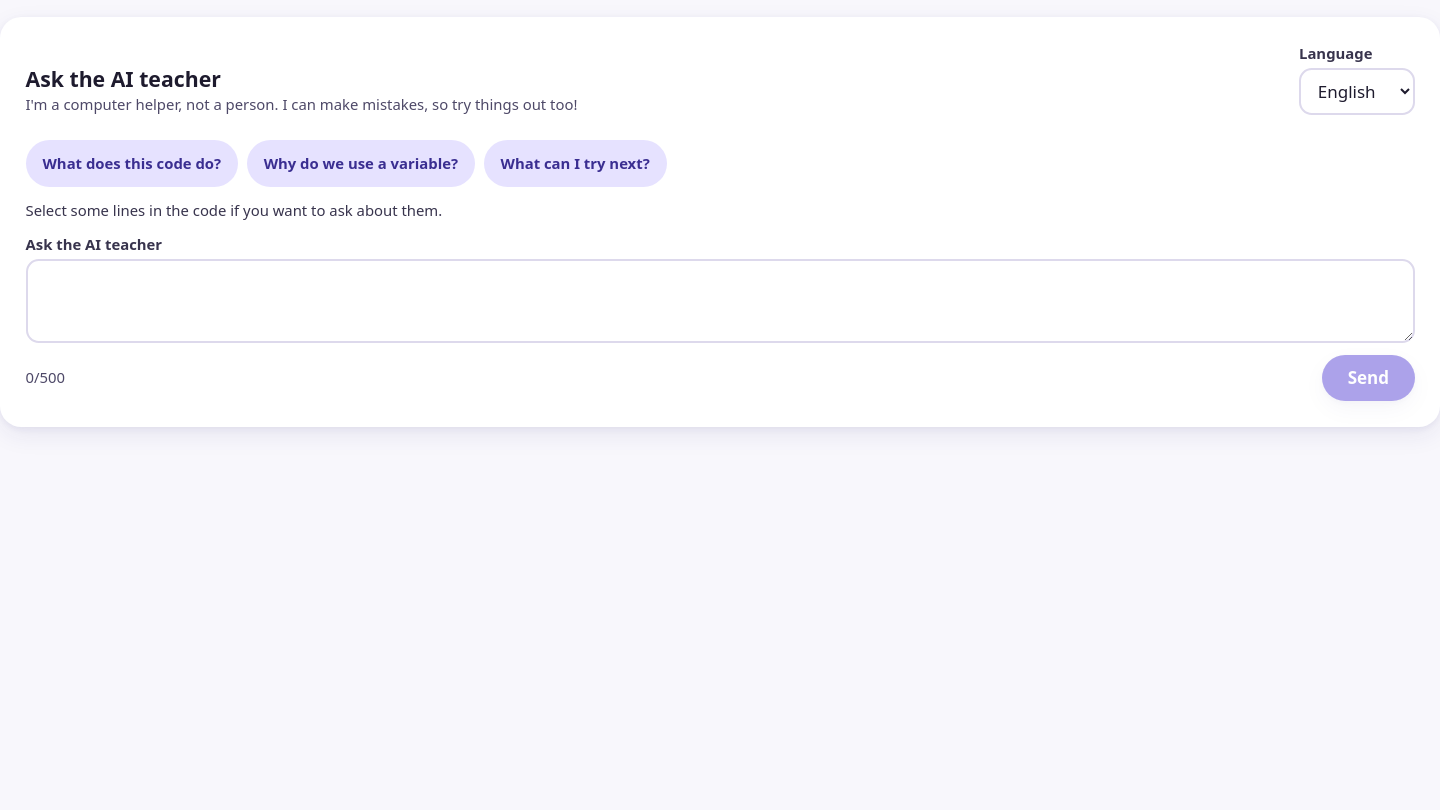
TeacherPanel chat › sends a suggested question with the project and shows the answer and follow-ups
Click the button "What can I try next?" at (575, 164), box [484, 140, 667, 187]
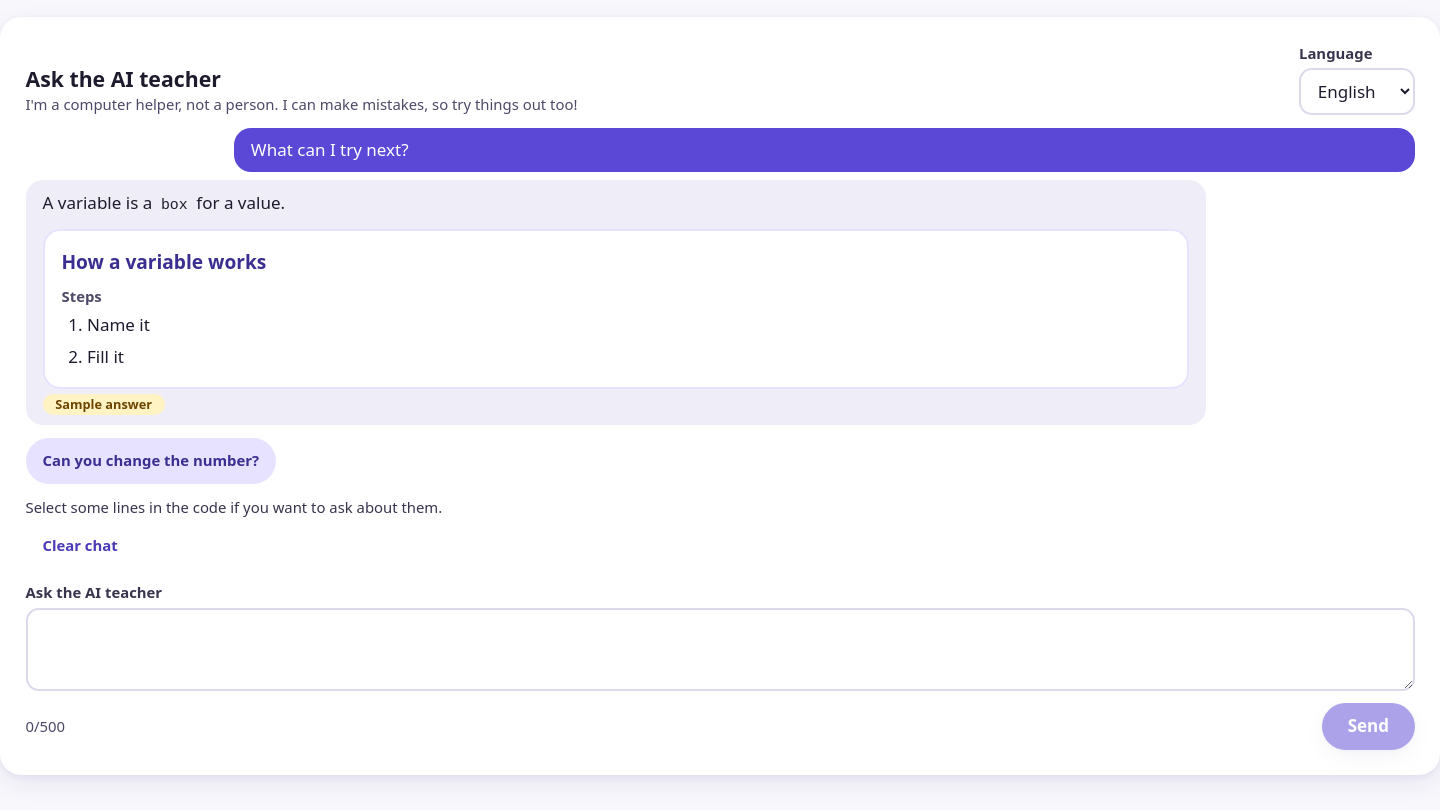
Expected: the text "for a value." is shown, [192, 191, 285, 214]
Expected: the text "Sample answer" is shown, [42, 394, 165, 415]
Expected: the button "Can you change the number?" is shown, [26, 438, 276, 484]
